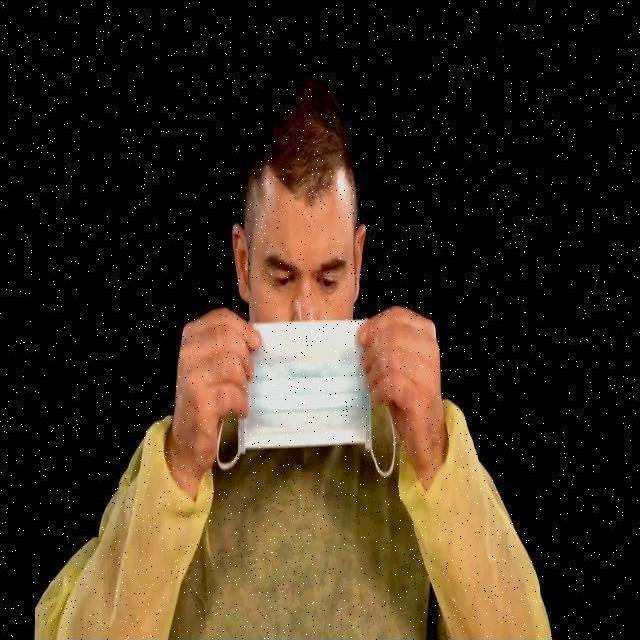mask: (242, 326, 372, 438)
no_gloves: (202, 126, 386, 196)
